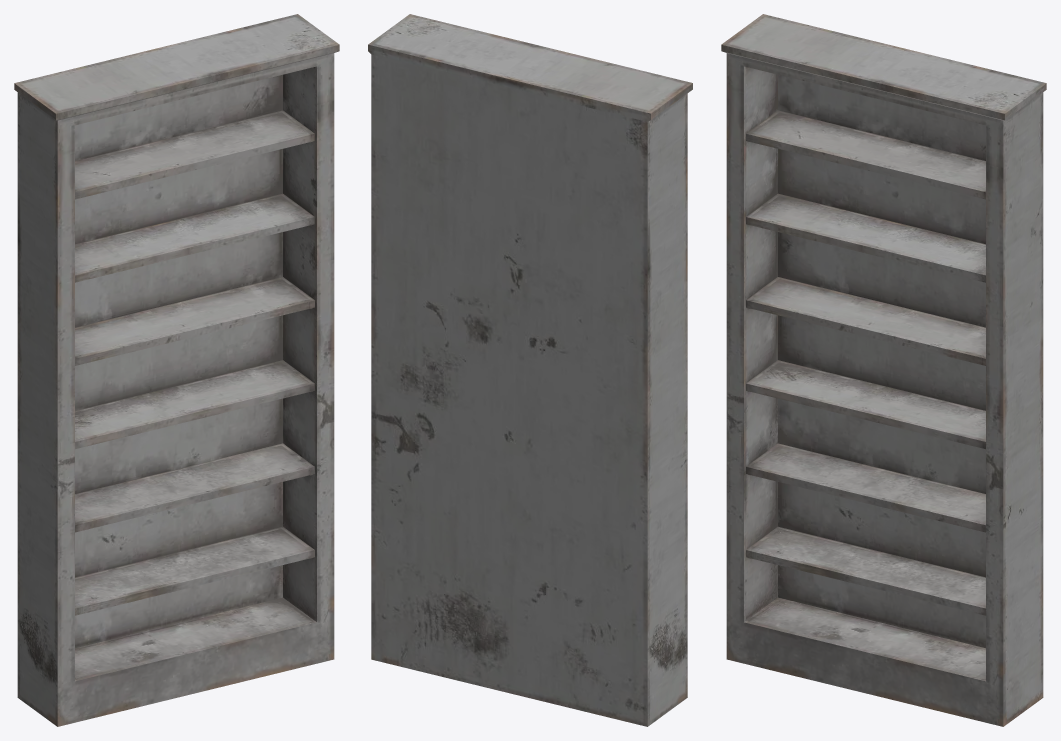
File: b9c69165-338f-4eac-ad76-72a33f8ccbcd.glb
The picture shows the model from 3 angles, left to right: view 1: azimuth 30°, elevation 25°; view 2: azimuth 150°, elevation 25°; view 3: azimuth 330°, elevation 25°; orthographic projection.
Visible parts, largest first — view 1: Shelf_01; view 2: Shelf_01; view 3: Shelf_01.
Part boxes in pixels (x1,y1,x2,y2): Shelf_01: (14, 14, 339, 726); Shelf_01: (368, 14, 692, 726); Shelf_01: (721, 14, 1046, 726).
Bounding box in the file's own units: 1 × 2.08 × 0.257.
1 material, 1 textured.
